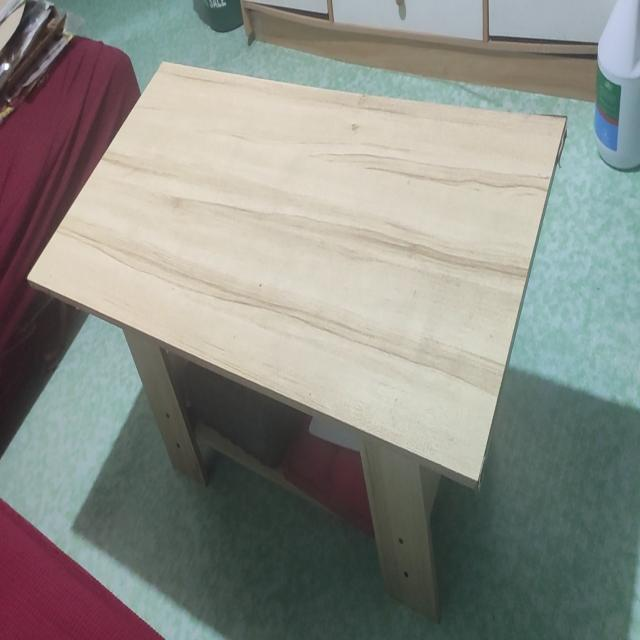table: (29, 58, 568, 619)
